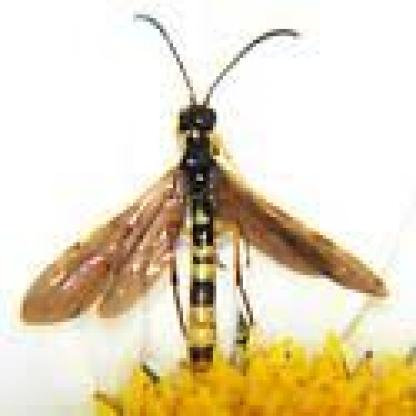sawfly: (13, 10, 400, 371)
